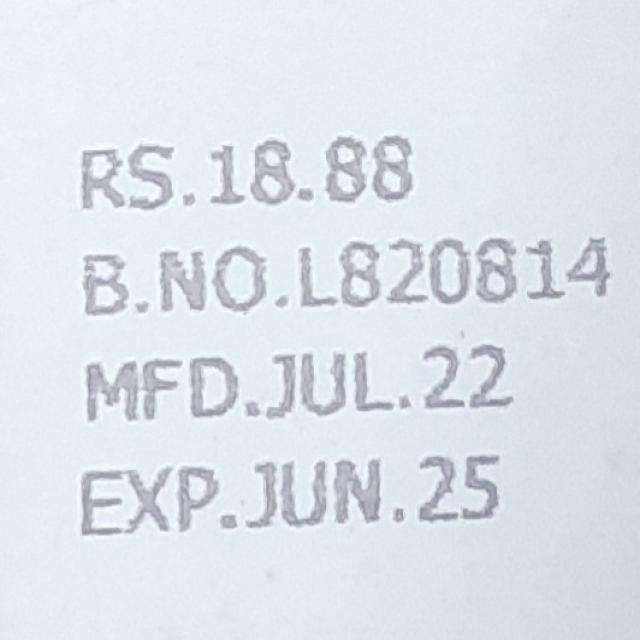sentence: (81, 235, 612, 317), (80, 454, 500, 536), (87, 343, 512, 421), (80, 137, 315, 210), (318, 134, 412, 202)
